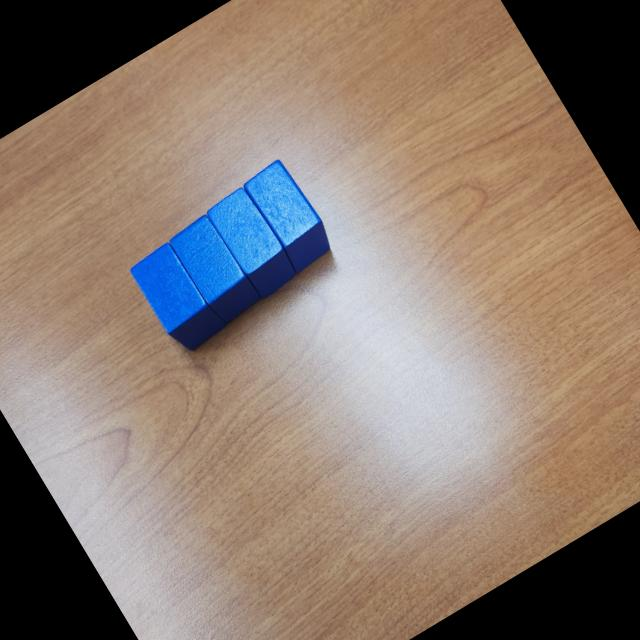blue: (240, 156, 340, 276), (204, 183, 302, 303), (165, 212, 264, 330), (127, 240, 226, 358)
